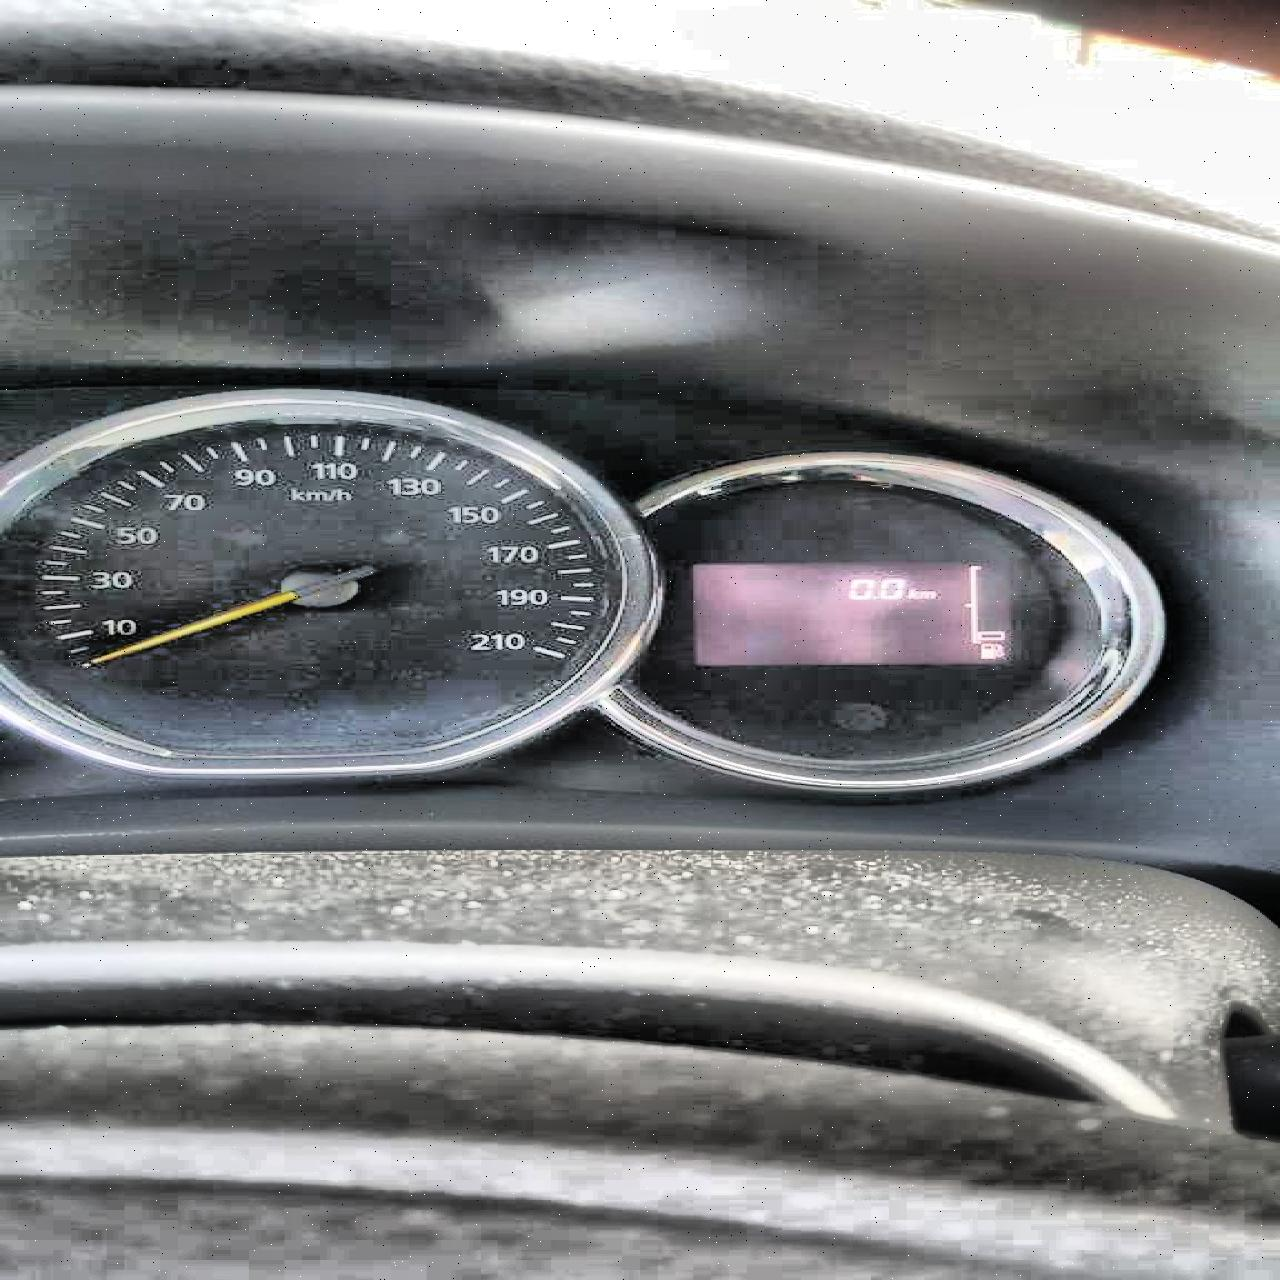-: (871, 595, 878, 599)
0: (844, 579, 873, 599), (876, 578, 903, 599)
X: (918, 590, 935, 599), (904, 587, 918, 598)
odometer: (685, 559, 1017, 666)
